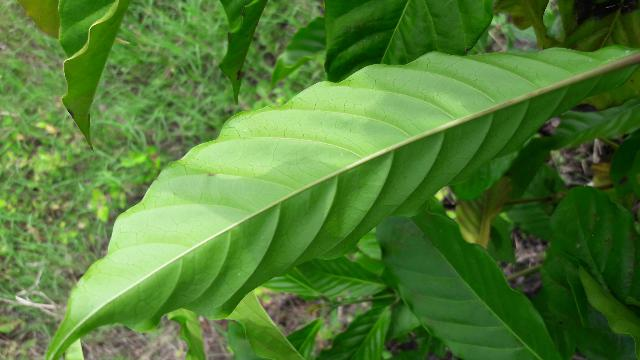healthy: (44, 45, 639, 358)
